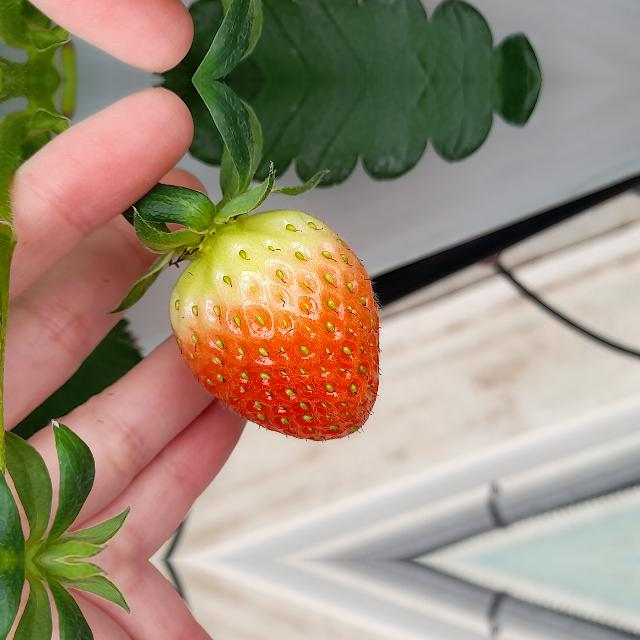Health_75: (168, 210, 380, 440)
